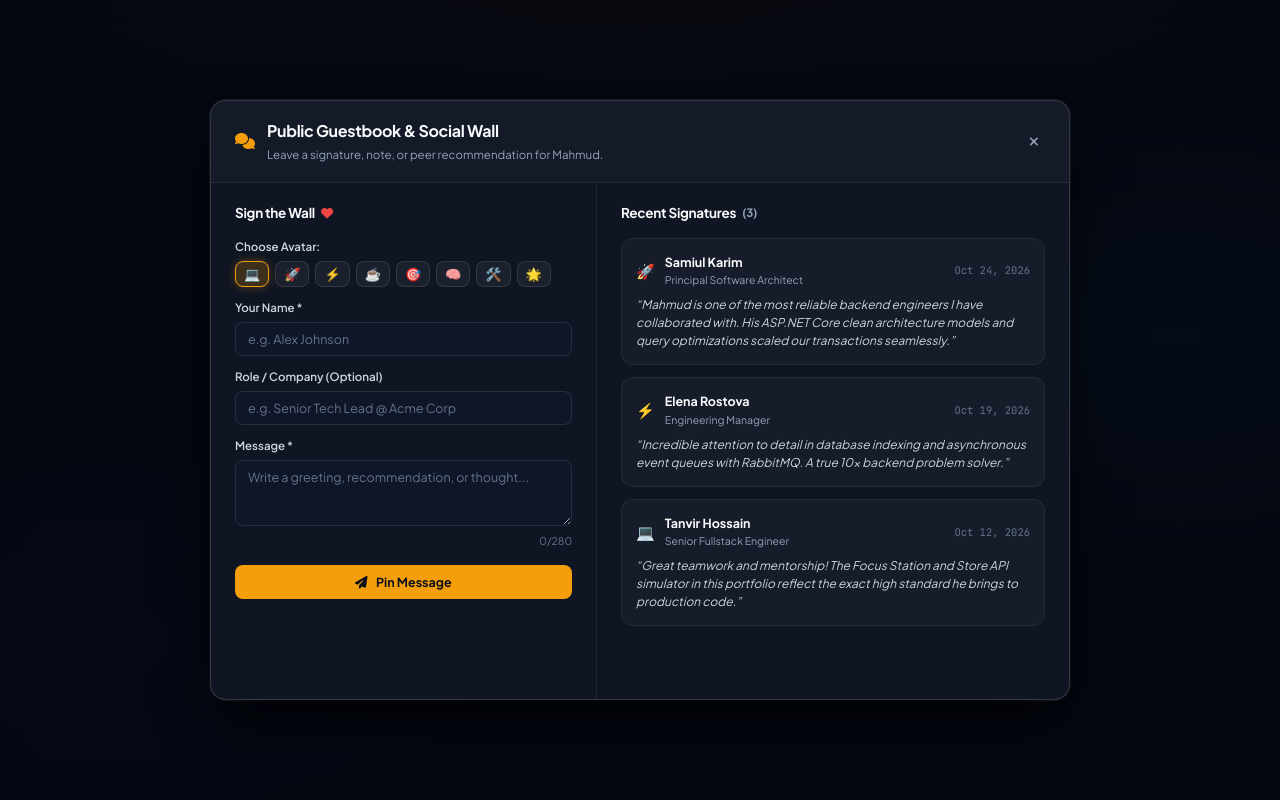
Test case: Guestbook Component › adds a new entry to the wall when form is submitted
The width and height of the screenshot is (1280, 800).
In the field labelled "Your Name *": (404, 339) [235,322,572,356], type "Jane Doe"
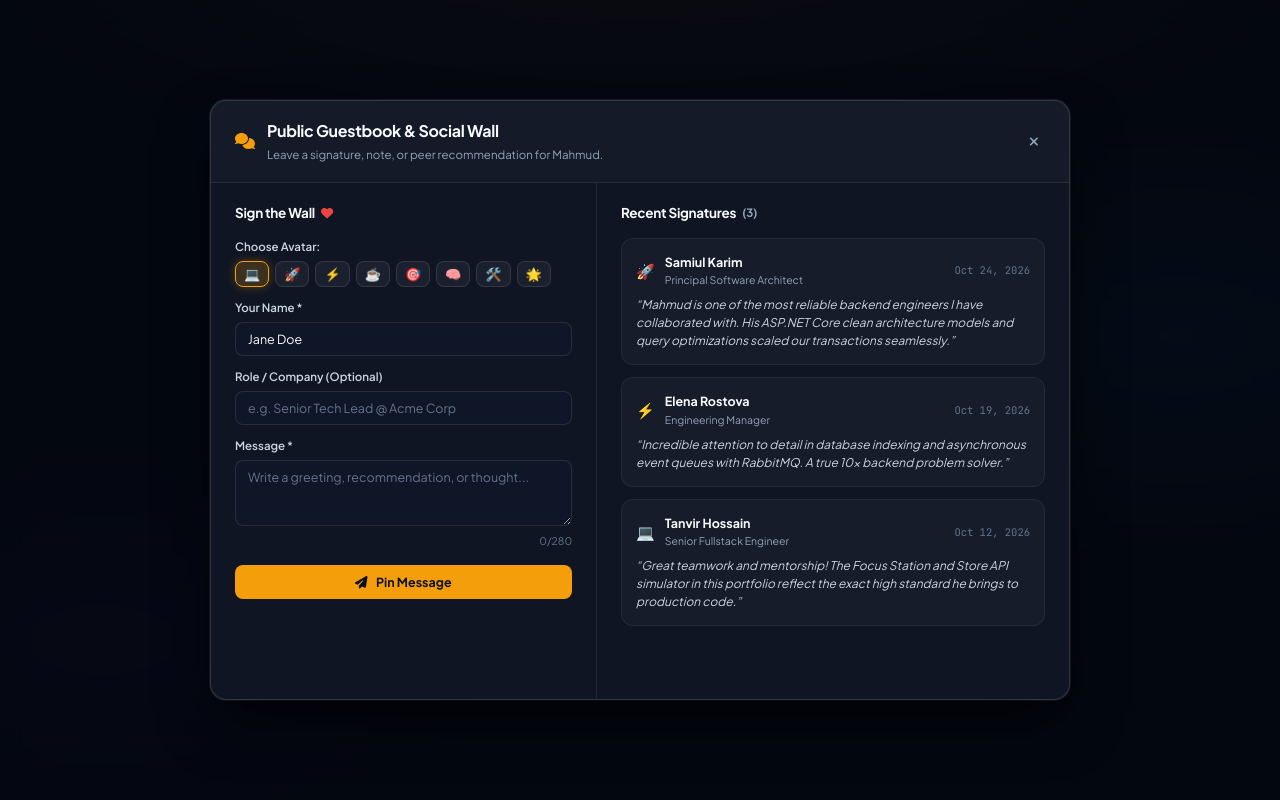
In the text box labelled "Message *": (404, 493) [235,460,572,526], type "Exciting work on this portfolio!"
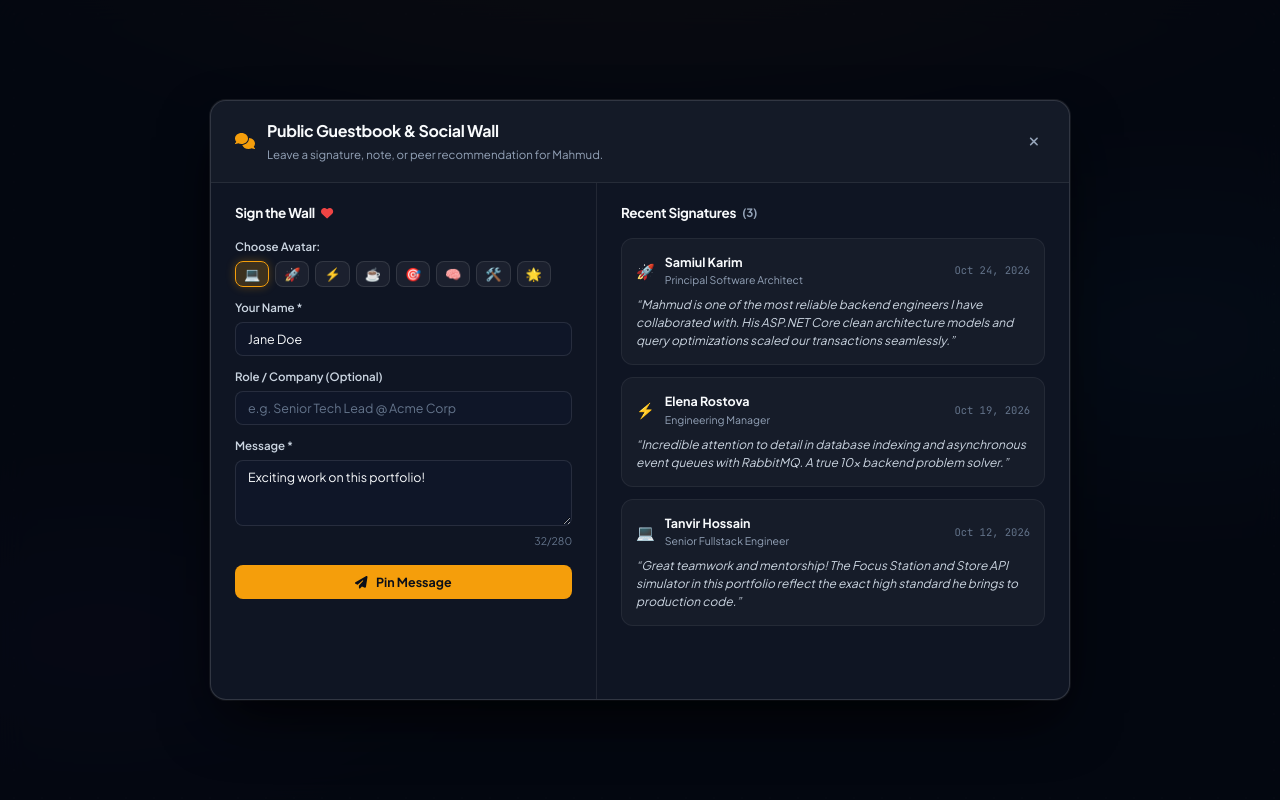
Click the button "Pin Message": (404, 582) [235,565,572,599]
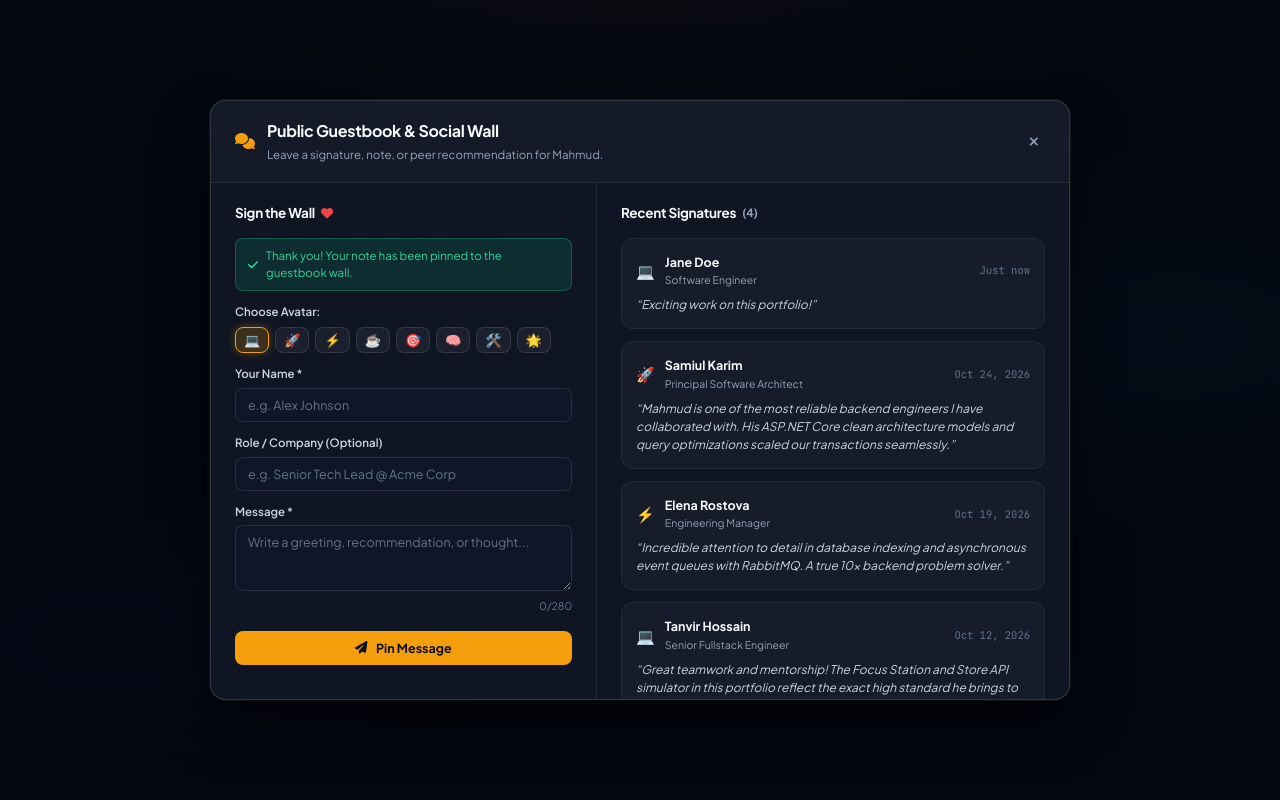
Now the text "Jane Doe" is shown, box [665,254,719,270]
Now the text "“Exciting work on this portfolio!”" is shown, box [636,297,816,312]
